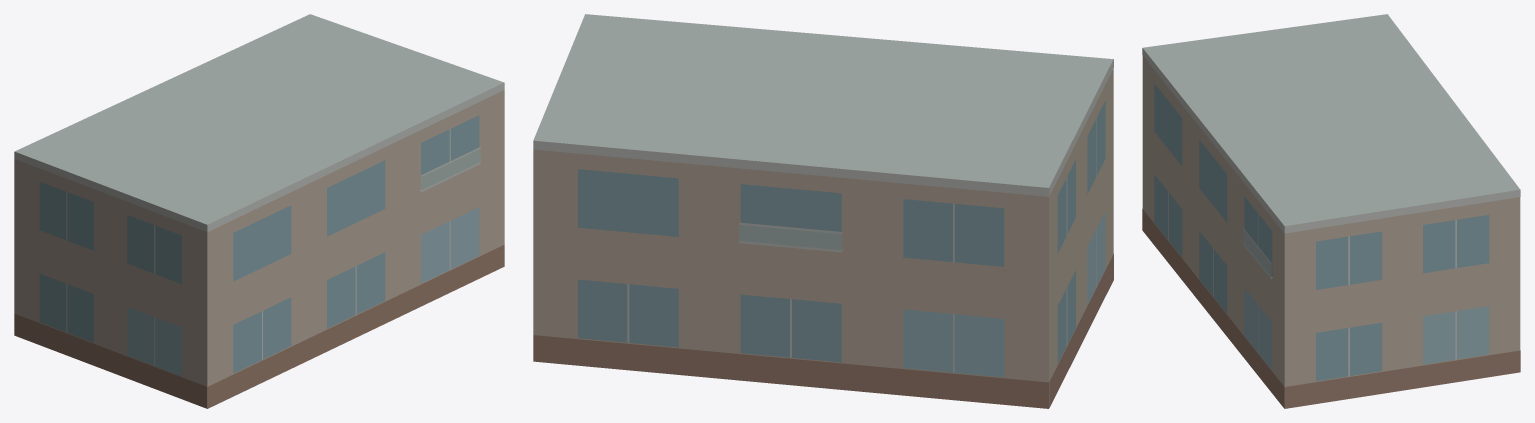
File: survey-upis-32917891.glb
3 renders of one model, left to right at view 1: azimuth 30°, elevation 25°; view 2: azimuth 150°, elevation 25°; view 3: azimuth 270°, elevation 25°, orthographic. The views are drawn at different scales.
Visible parts, largest first — view 1: survey-upis-32917891.tmp; view 2: survey-upis-32917891.tmp; view 3: survey-upis-32917891.tmp.
Boxes of the visible parts, <box> form: survey-upis-32917891.tmp: <box>14,14,504,408</box>; survey-upis-32917891.tmp: <box>533,14,1113,408</box>; survey-upis-32917891.tmp: <box>1142,14,1520,408</box>.
Bounding box in the file's own units: 15.21 × 6.1 × 11.45.
